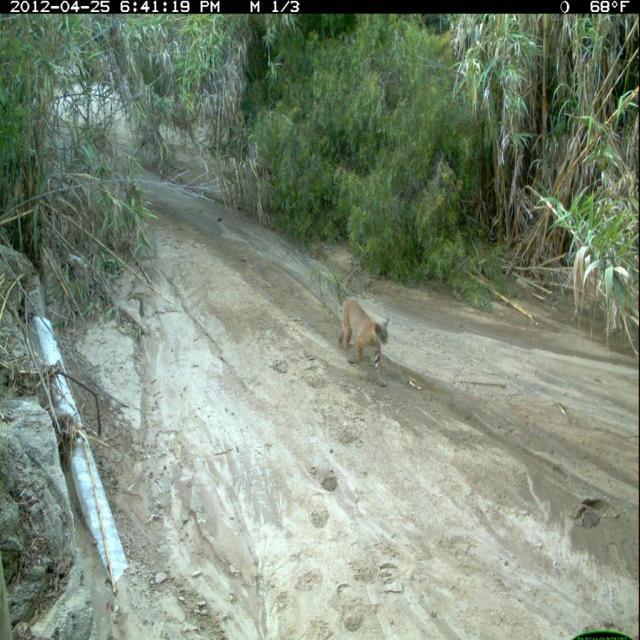bobcat: (336, 294, 395, 393)
